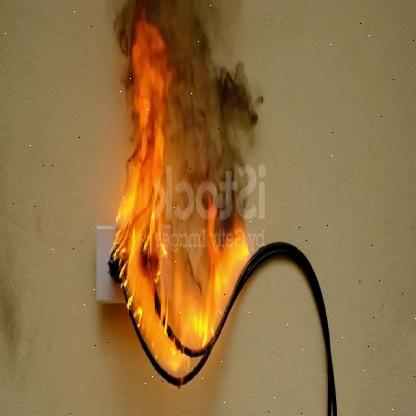fire: (107, 21, 254, 393)
smoke: (112, 0, 269, 215)
